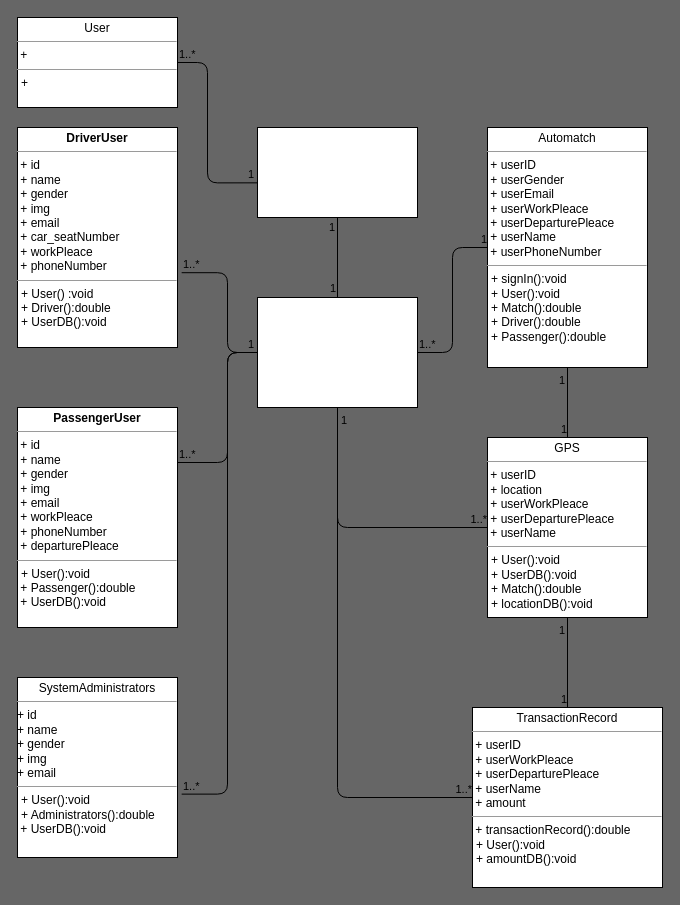
The diagram is 680 pixels wide and 905 high, and some of its shapes have lost their labels. The centre of each missing label's shape, as x and y in pixels:
"SignIn + + signIn():void + UserDB():void" belongs at point 337,352.
"SignUp + + signUp():void" belongs at point 337,172.
